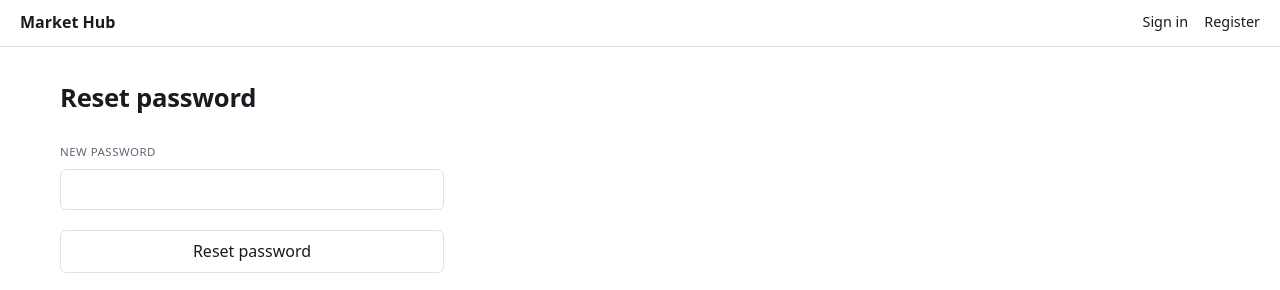
ResetPasswordPage › resets the password with a valid token and shows a success message
Type "a-new-password1" into the password field labelled "New password" at x=252, y=190, box [60,169,444,210]
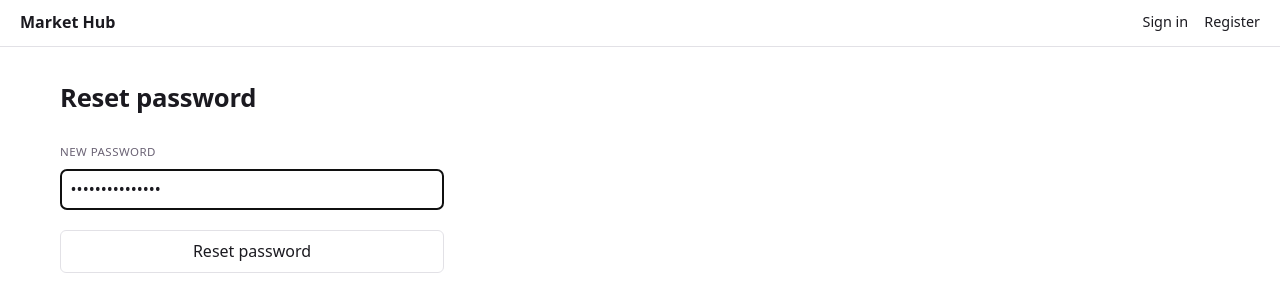
Click the button "Reset password" at x=252, y=252, box [60,230,444,273]
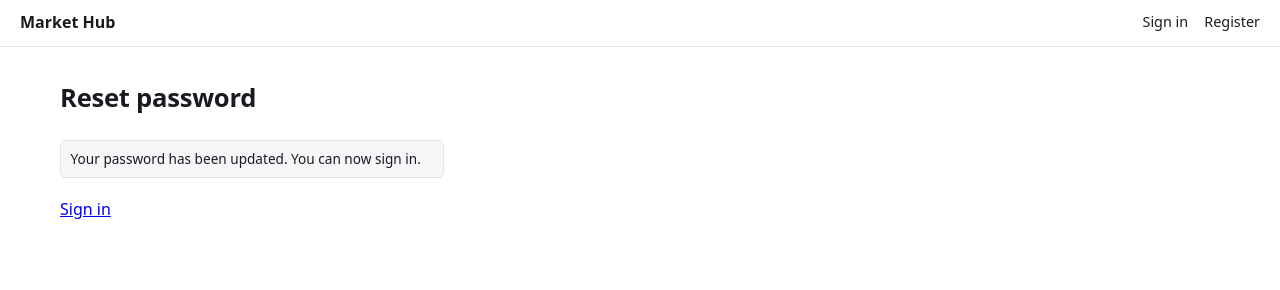
Check: the text "Your password has been updated. You can now sign in." is shown, box [60,140,444,178]
Check: the link "Sign in" below "Reset password" is shown, box [60,198,111,220]
